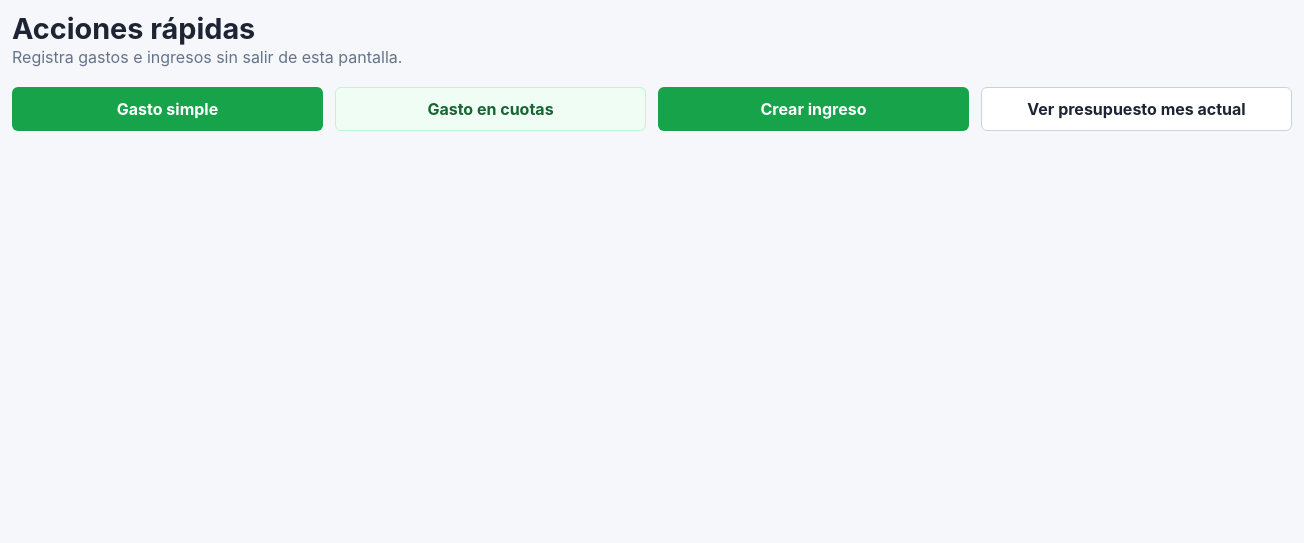
Test: QuickActionsPageComponent › toggles the current month budget consolidated view
The image size is (1304, 543).
Click the button "Ver presupuesto mes actual".
click(1136, 108)  # box x1=981 y1=86 x2=1292 y2=130
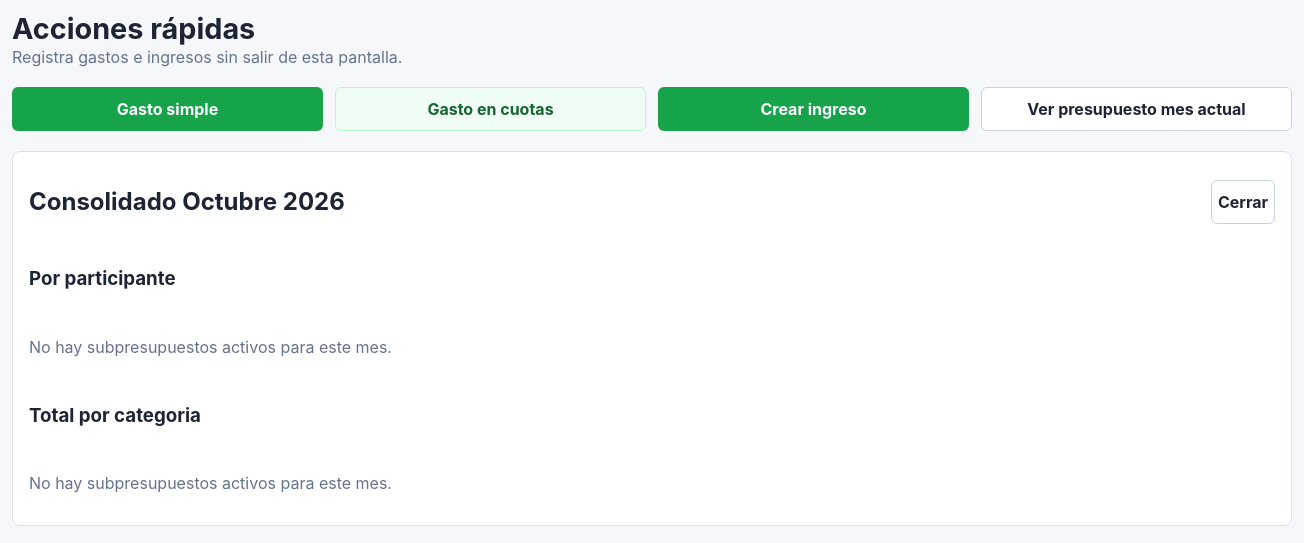
Result: the element with class "monthly-consolidated-panel" is shown
Click the button "Ver presupuesto mes actual".
click(1136, 108)  # box x1=981 y1=86 x2=1292 y2=130
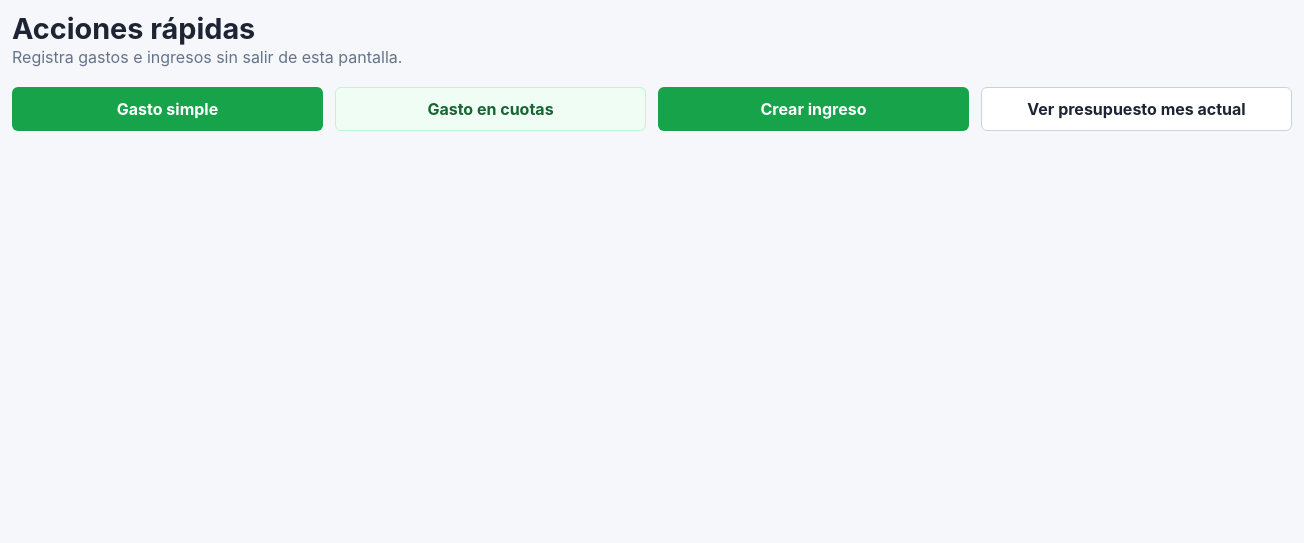
Result: the element with class "monthly-consolidated-panel" is gone
